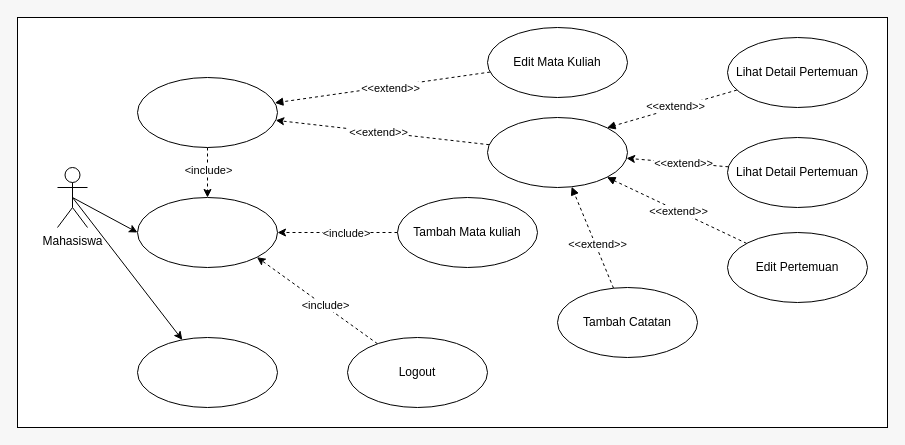
This 905x445 diagram has some shape labels left out. The shapes that lost their labels are listed below. From the top down, each one's box as (x1, y1, x2, y2) in pixels, then its label:
(136, 76, 278, 148): Lihat Mata kuliah
(486, 116, 628, 188): Lihat Pertemuan
(136, 196, 278, 268): Login
(136, 336, 278, 408): Register
